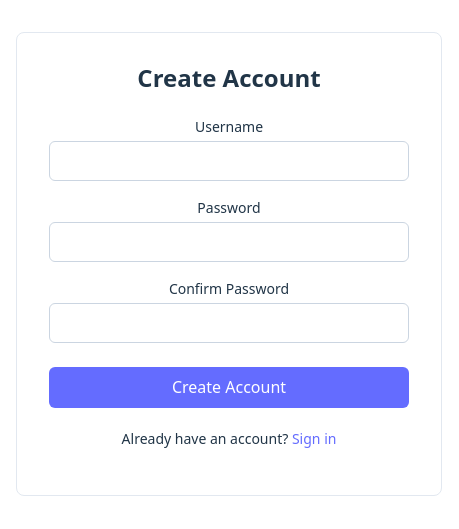
Scenario: RegisterView — behaviour › shows 'username taken' error on 409
Type "takenuser" into the field with id "username" at (229, 161), box [49,141,409,181]
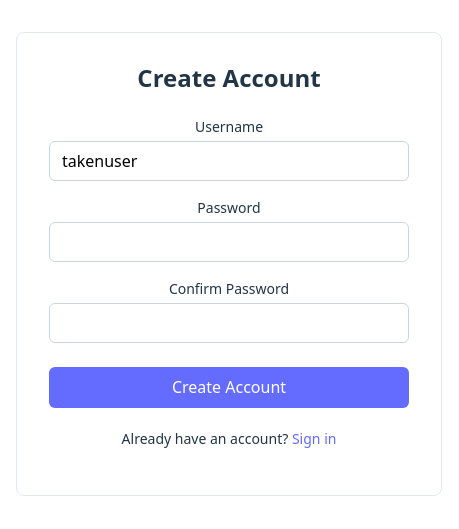
Type "mypassword" into the password field labelled "Password" at (229, 242), box [49,222,409,262]
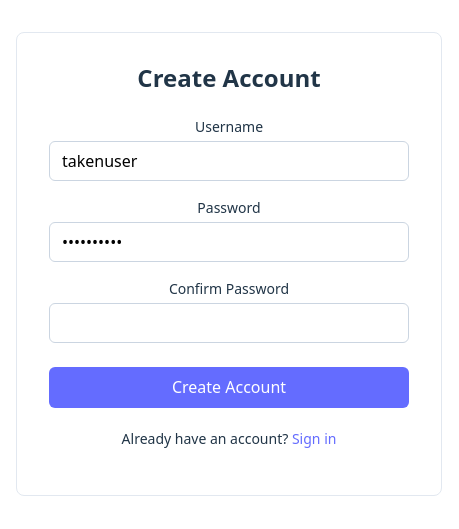
Type "mypassword" into the password field with id "confirm-password" at (229, 323), box [49,303,409,343]
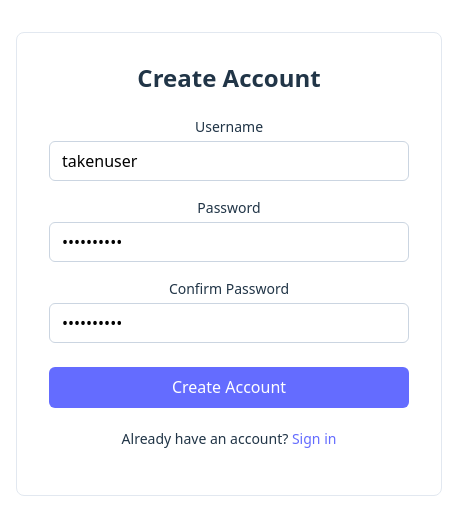
Submit the form, box [49,116,409,408]
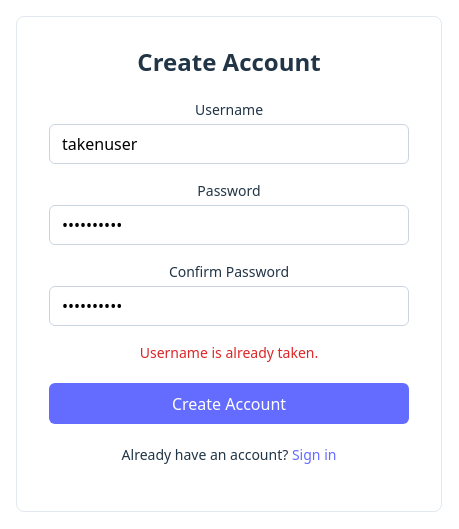
Check: the text with class "error" reads "Username is already taken.", box [140,343,318,362]
